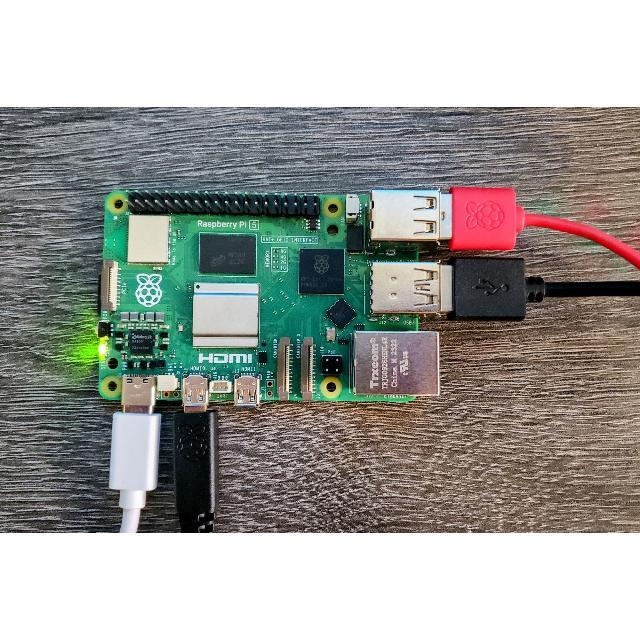Raspberry-Pi-5: (99, 190, 452, 413)
